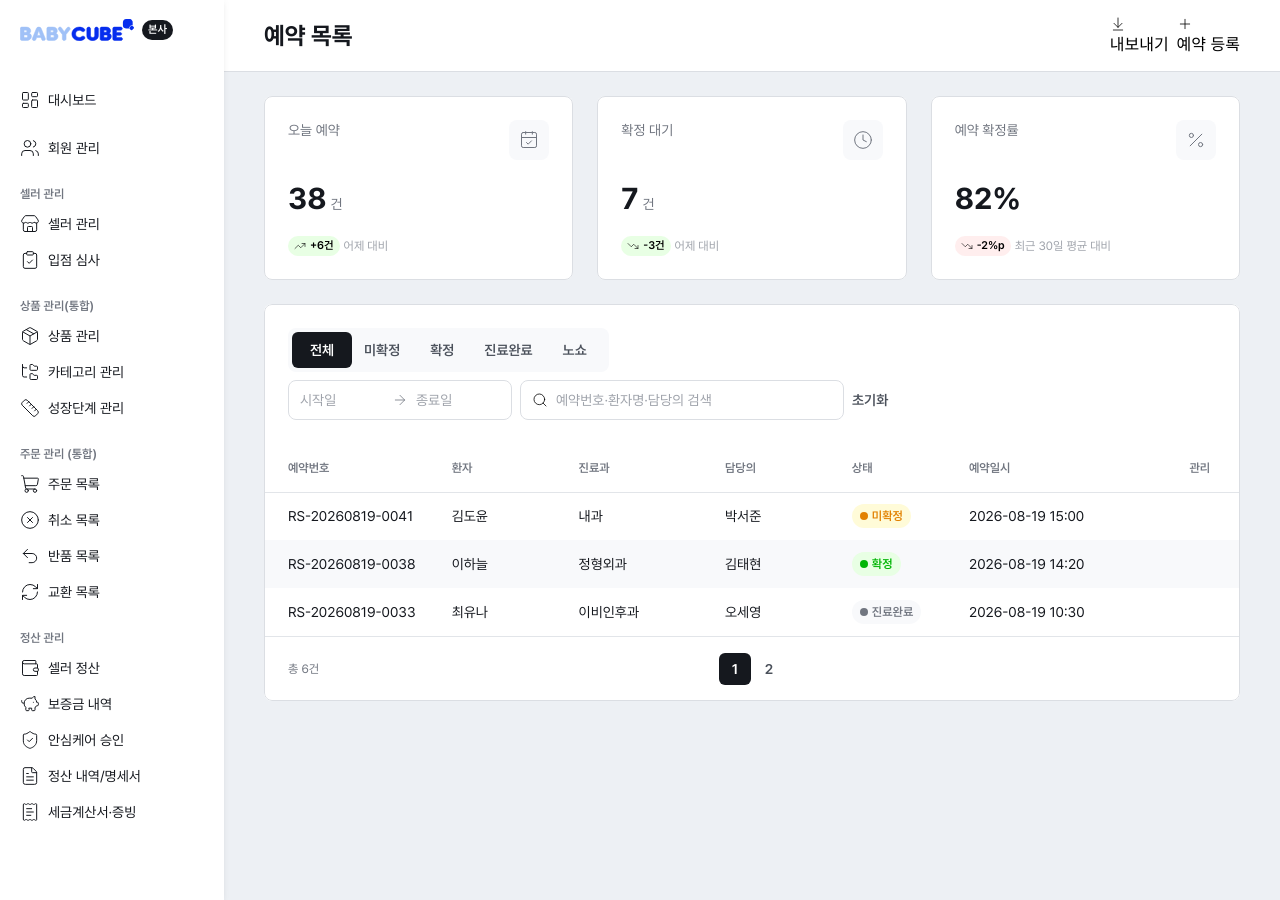
it: ReservationListPage › 페이지네이션 › 필터를 바꾸면 1페이지로 되돌아간다
Click the button "2".
click(769, 668)  # box [753,652,785,684]
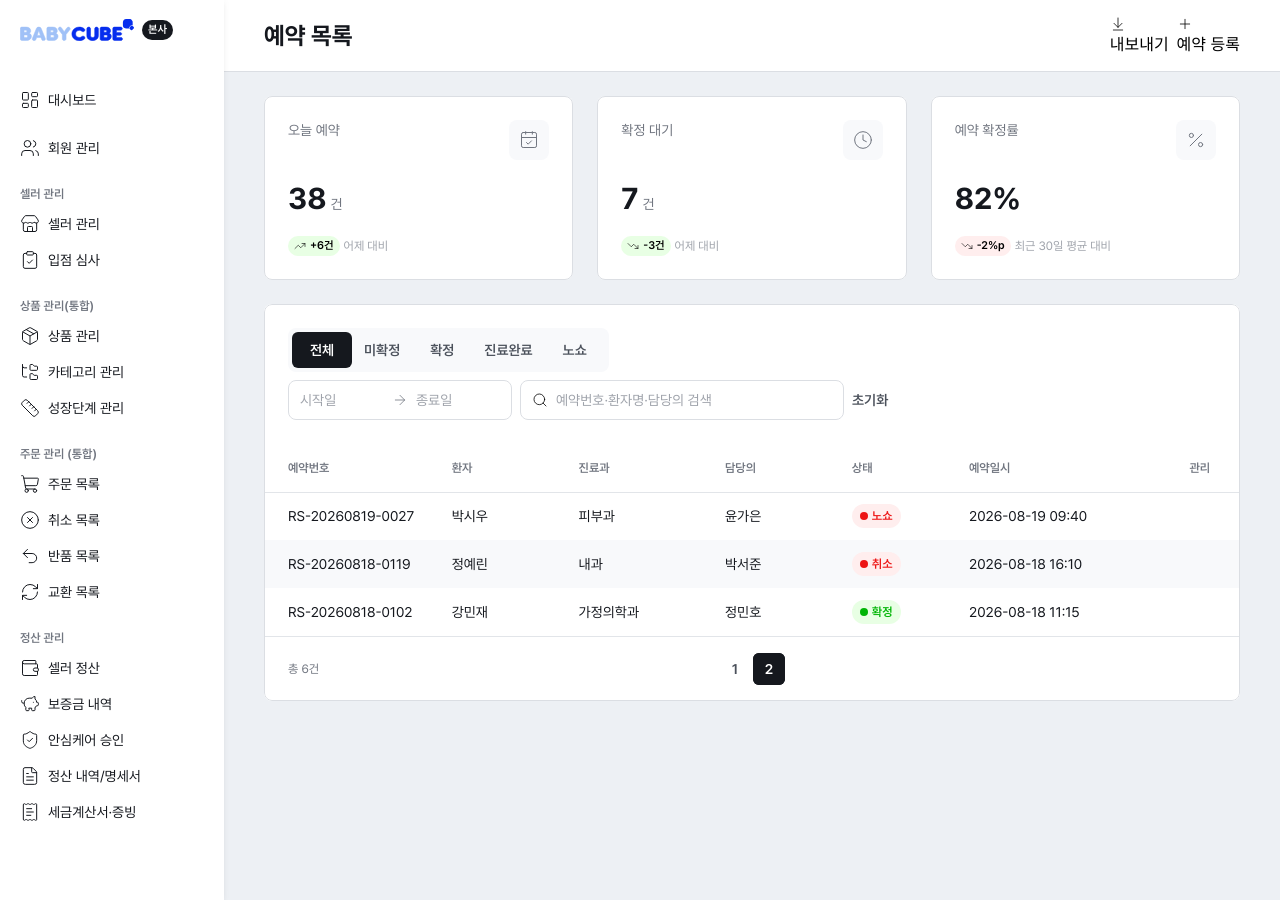
Click the radio button labelled "확정".
click(442, 350)  # box [412,332,472,368]
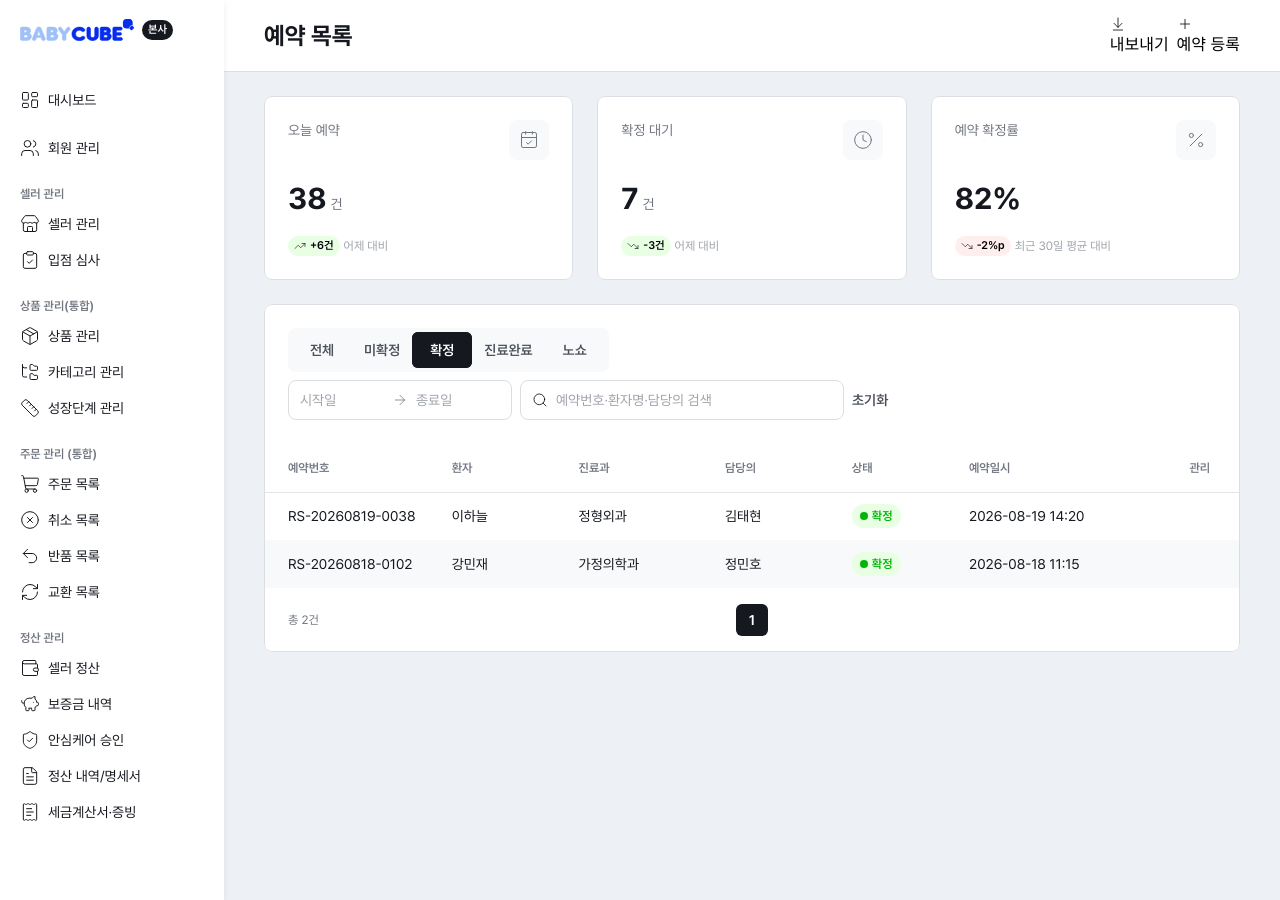
Result: the text "총 2건" is shown at [288,612,319,628]
